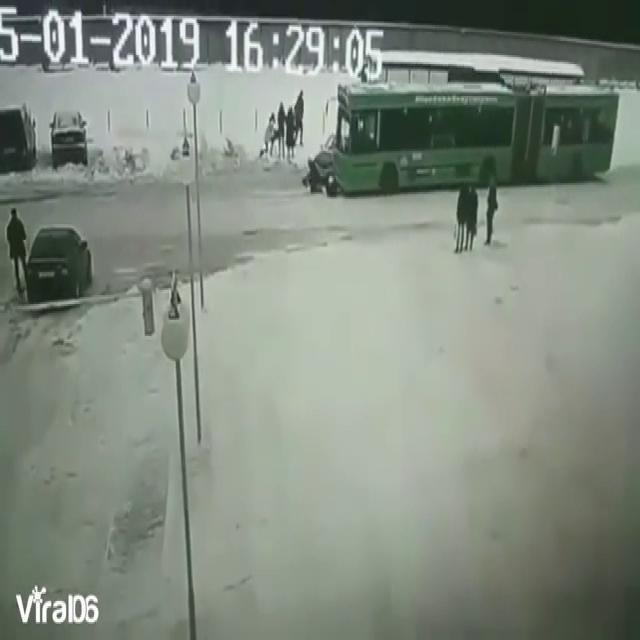severe: (300, 59, 626, 203)
